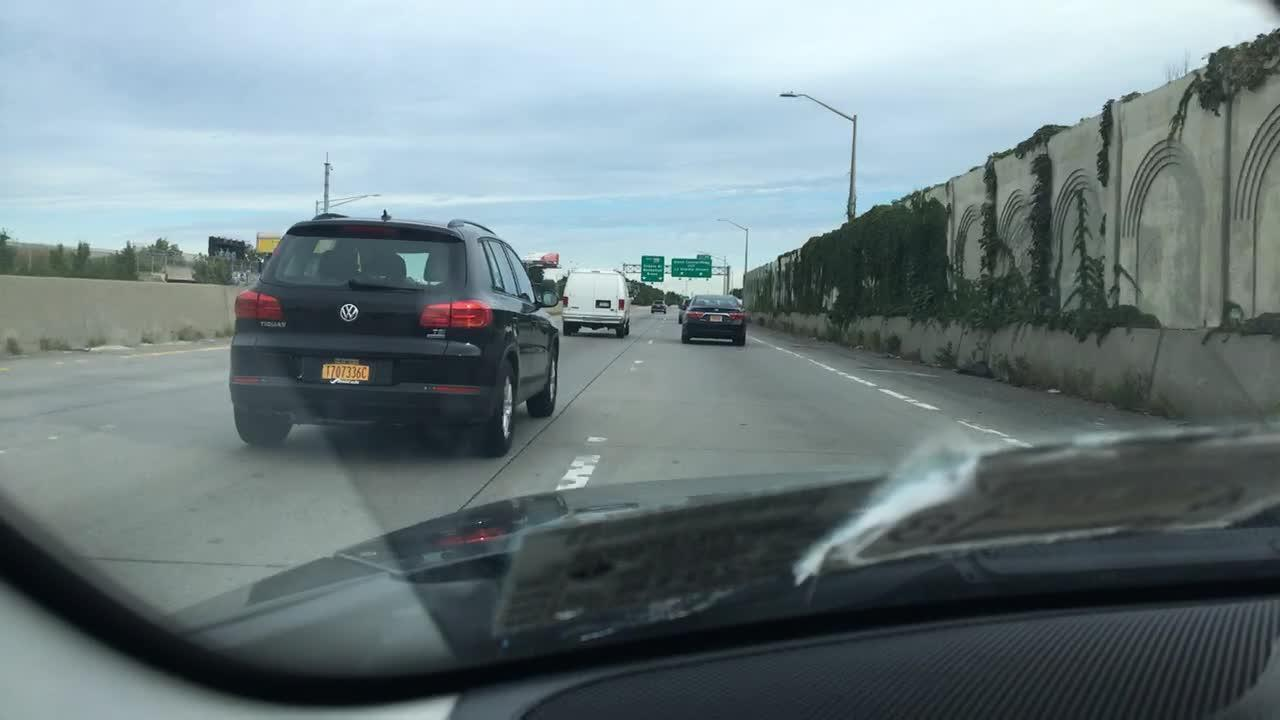Volkswagen: (335, 289, 381, 333)
